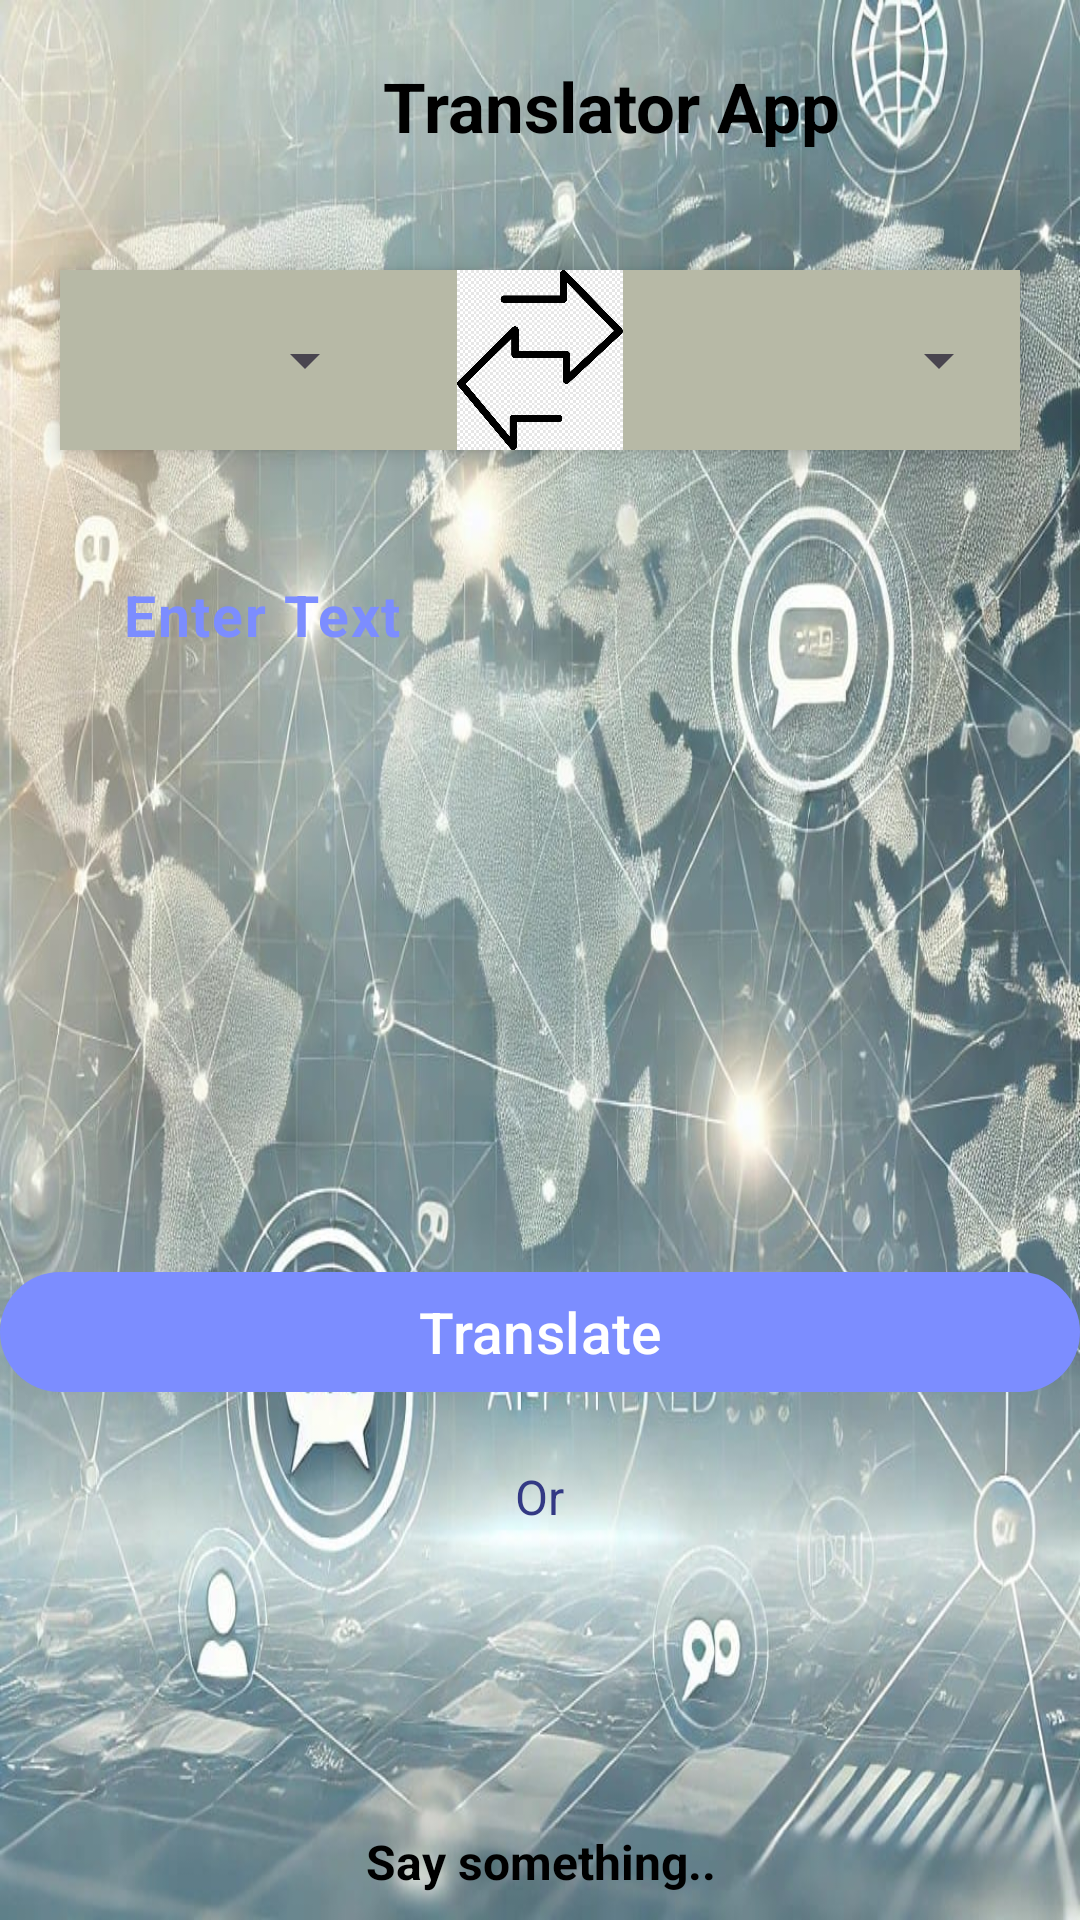

Screen size 1080 x 1920. Icon name, then its center in pixels as [x,y]:
bothsizearrow: [540,360]
